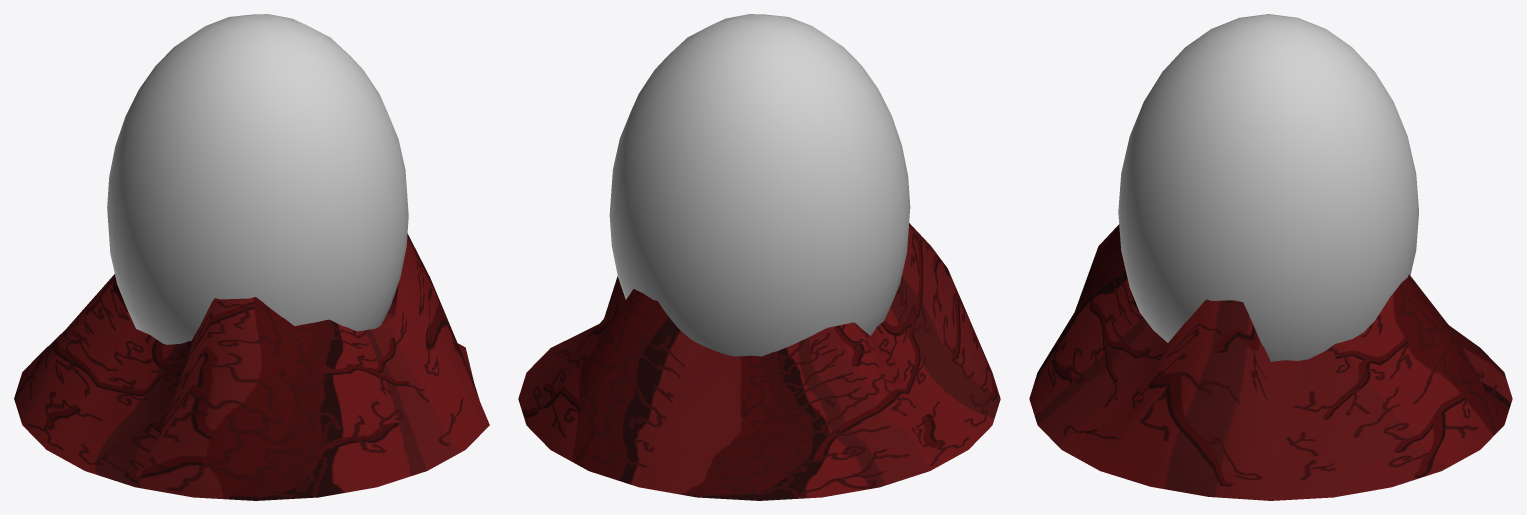
File: Alien Egg(Nest).fbx
The picture shows the model from 3 angles, left to right: view 1: azimuth 30°, elevation 25°; view 2: azimuth 150°, elevation 25°; view 3: azimuth 270°, elevation 25°; orthographic projection.
Visible parts, largest first — view 1: Sphere001, Cone001; view 2: Sphere001, Cone001; view 3: Sphere001, Cone001.
Part boxes in pixels (box(x1,y1,x2,y2)): Sphere001: box(107, 14, 408, 344); Cone001: box(14, 234, 489, 500); Sphere001: box(609, 14, 910, 356); Cone001: box(518, 223, 1000, 500); Sphere001: box(1118, 14, 1418, 361); Cone001: box(1029, 224, 1512, 500).
Size of the model in its own units: 77.59 by 67.67 by 77.59.
